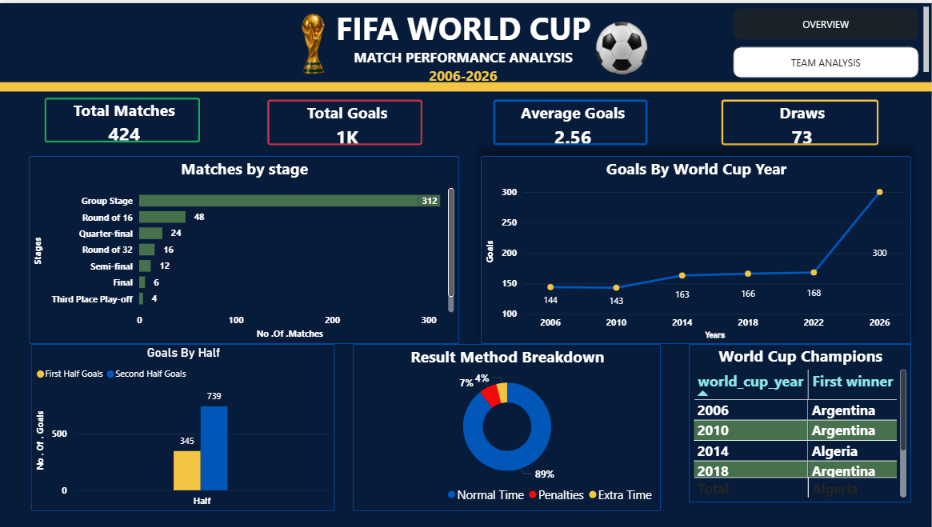

This screenshot's page, from the dashboard's own definition file:
{"tool":"powerbi","page":{"name":"OVERVIEW","canvas":[1280,720],"ordinal":0},"visuals":[{"type":"textbox","box":[0,0,1280.2,115.1],"z":0},{"type":"shape","box":[0,108.1,1280.2,12.8],"z":1000},{"type":"image","box":[772.1,18.6,161.6,84.9],"z":2000},{"type":"image","box":[349.9,11,160.5,89.2],"z":3000},{"type":"cardVisual","fields":{"Data":["football_data.Total Matches"]},"box":[41.9,111.6,250,98.8],"z":4000},{"type":"cardVisual","fields":{"Data":["football_data.Total Goals"]},"box":[350,115.1,247.7,97.7],"z":5000},{"type":"cardVisual","fields":{"Data":["football_data.Average Goals"]},"box":[660.5,115.1,246.5,97.7],"z":6000},{"type":"cardVisual","fields":{"Data":["football_data.Draws"]},"box":[973.3,115.1,250,97.7],"z":7000},{"type":"stackedAreaChart","title":"Goals By World Cup Year","fields":{"Category":["football_data.world_cup_year"],"Y":["football_data.Total_Goals_year"]},"box":[660,209.9,590.1,258],"z":8000},{"type":"clusteredBarChart","title":"Matches by stage","fields":{"Category":["football_data.stage"],"Y":["football_data.Total Matches"]},"box":[39.8,209.9,590.1,258],"z":9000},{"type":"clusteredColumnChart","title":"Goals By Half","fields":{"Y":["football_data.First Half Goals","football_data.Second Half Goals"]},"box":[42.5,467.9,417.2,229.2],"z":10000},{"type":"tableEx","title":"World Cup Champions","fields":{"Values":["football_data.world_cup_year","Min(football_data.winner)"]},"box":[945.5,467.9,304.6,216.8],"z":11000},{"type":"donutChart","title":"Result Method Breakdown","fields":{"Category":["football_data.result_method"],"Y":["CountNonNull(football_data.match_id)"]},"box":[484.4,467.9,422.6,229.2],"z":12000},{"type":"pageNavigator","box":[1005.8,6.9,255.2,97.4],"z":13000}]}

Visuals, with their boxes in screenshot pixels (x1, y1, x2, y2), scaled from the page's 1280x720 canvas onto the 932x527 screenshot:
textbox: (0, 0, 931, 84)
shape: (0, 79, 931, 88)
image: (562, 14, 680, 76)
image: (255, 8, 372, 73)
cardVisual - football_data.Total Matches: (31, 82, 213, 154)
cardVisual - football_data.Total Goals: (255, 84, 435, 156)
cardVisual - football_data.Average Goals: (481, 84, 660, 156)
cardVisual - football_data.Draws: (709, 84, 891, 156)
"Goals By World Cup Year" stackedAreaChart: (481, 154, 910, 342)
"Matches by stage" clusteredBarChart: (29, 154, 459, 342)
"Goals By Half" clusteredColumnChart: (31, 342, 335, 510)
"World Cup Champions" tableEx: (688, 342, 910, 501)
"Result Method Breakdown" donutChart: (353, 342, 660, 510)
pageNavigator: (732, 5, 918, 76)
